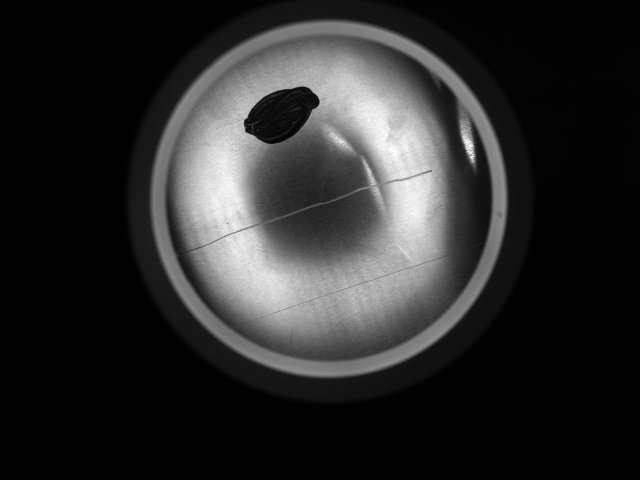ca_shang: (177, 167, 436, 256), (228, 249, 462, 330)
zang_wu: (242, 86, 323, 146)
